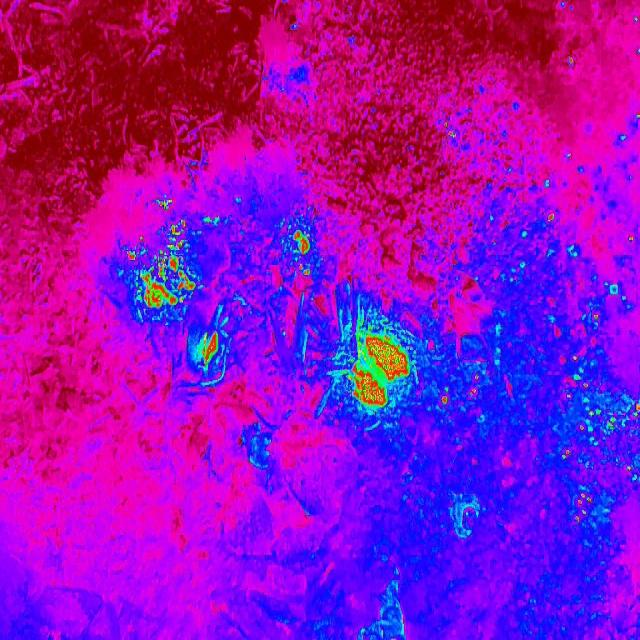fire: (543, 207, 640, 527), (124, 214, 199, 314), (343, 328, 413, 418), (435, 375, 486, 413), (190, 324, 223, 374), (288, 222, 316, 280), (151, 194, 178, 213), (441, 118, 460, 144)
